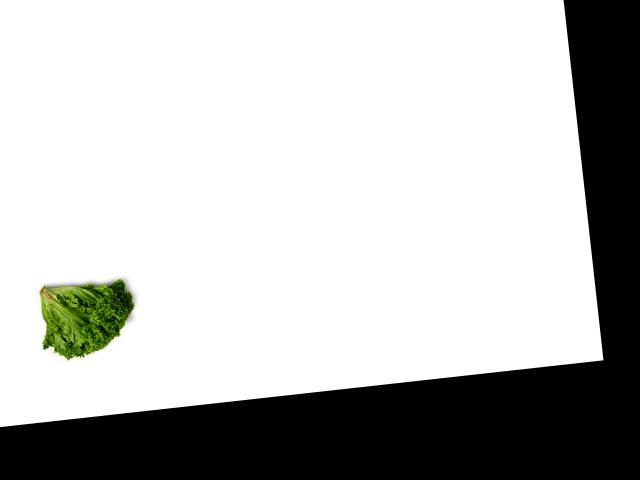lettuce: (31, 268, 144, 367)
